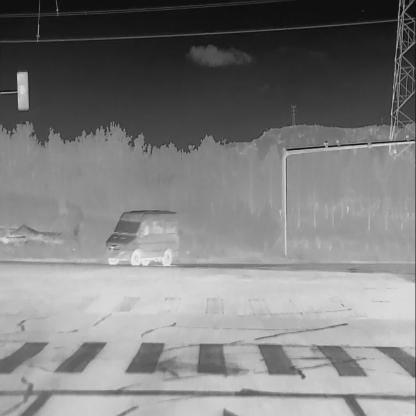car: (104, 206, 181, 269)
